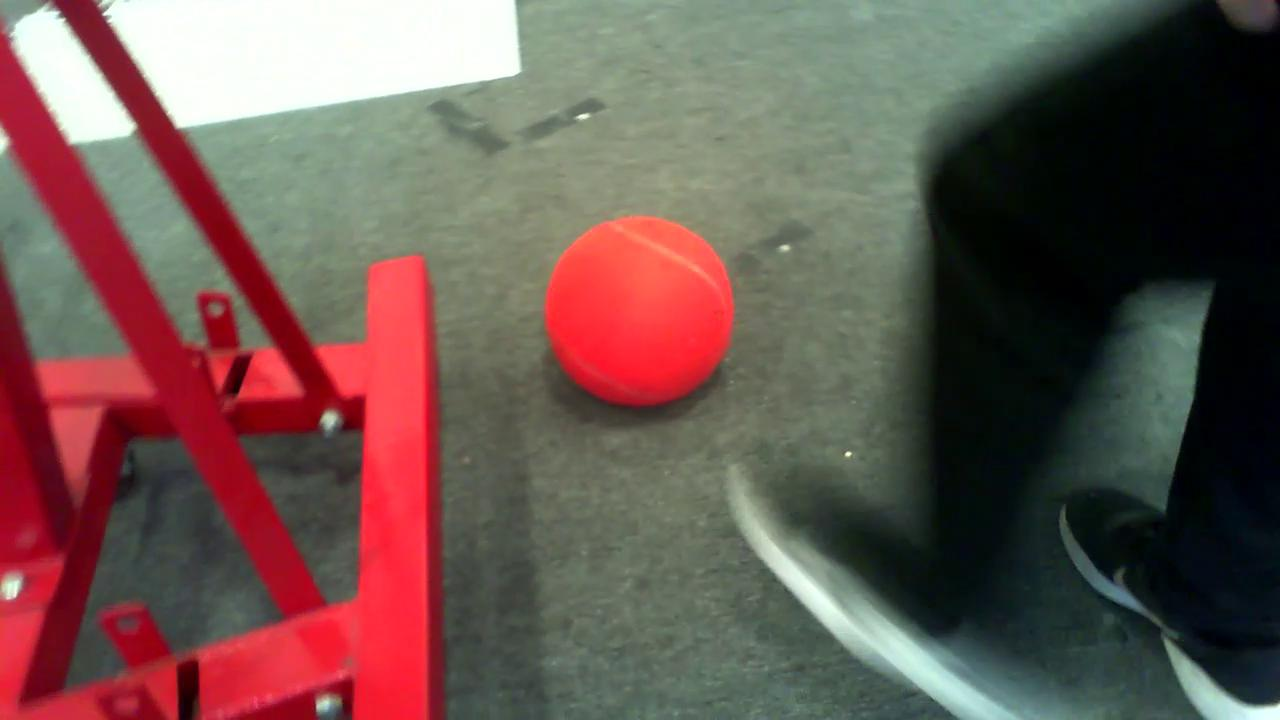Red_Ball: (522, 199, 756, 405)
